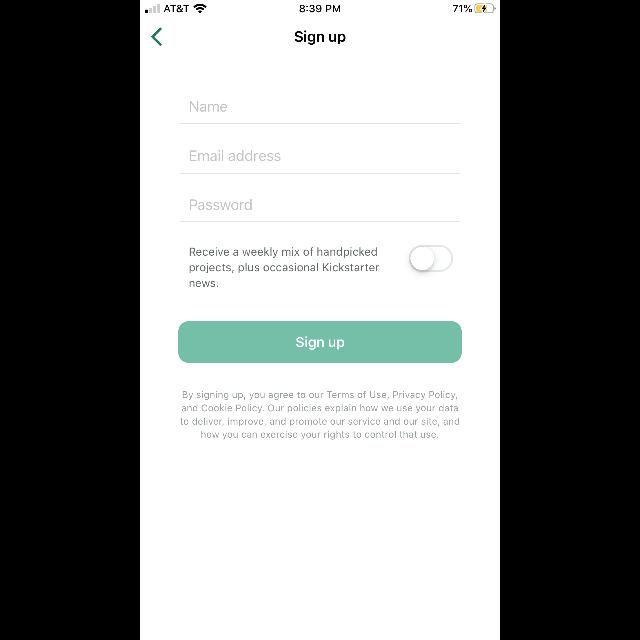icon: (152, 28, 162, 46)
input: (180, 150, 460, 174), (180, 198, 460, 222), (180, 102, 460, 125)
switch: (409, 245, 453, 272)
text: (180, 390, 460, 440), (189, 247, 379, 287), (190, 150, 282, 162), (294, 30, 346, 46), (190, 199, 252, 211), (190, 101, 228, 112)
textbutton: (178, 321, 462, 363)
uppertaskbar: (140, 0, 500, 14)
